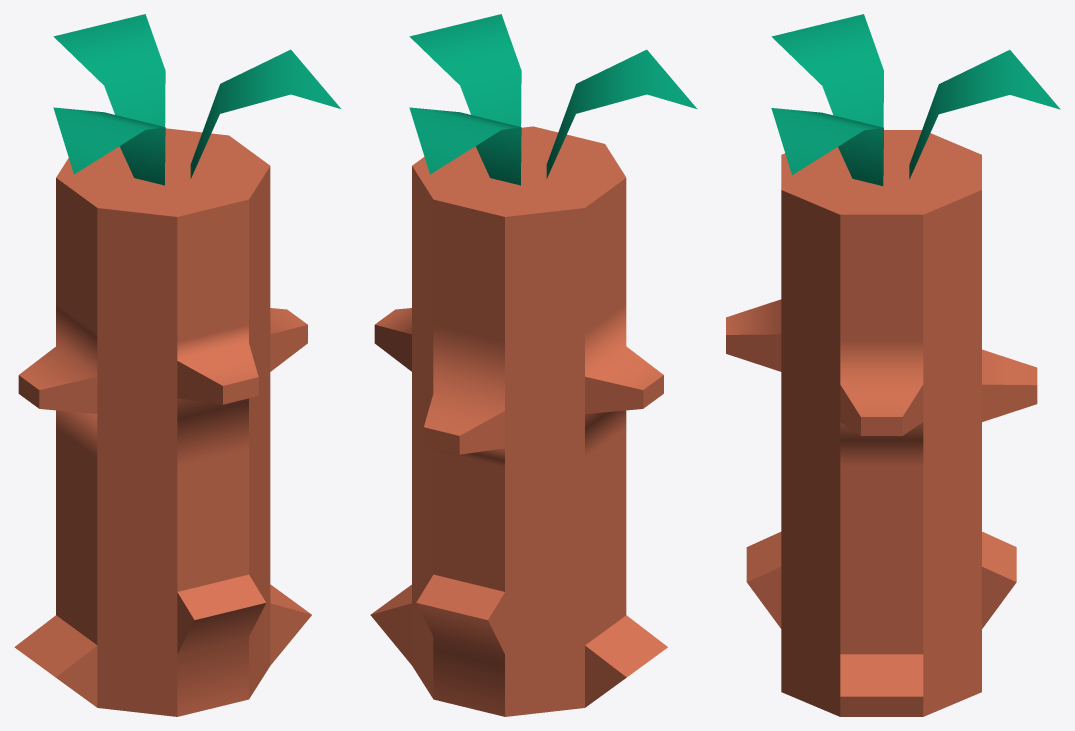
File: Log.fbx
3 views of the same model, side by side, from view 1: azimuth 30°, elevation 25°; view 2: azimuth 150°, elevation 25°; view 3: azimuth 270°, elevation 25° (orthographic).
Visible parts, largest first — view 1: mergedBlocks; view 2: mergedBlocks; view 3: mergedBlocks.
Boxes of the visible parts, <box> form: mergedBlocks: <box>14,14,341,716</box>; mergedBlocks: <box>370,14,697,716</box>; mergedBlocks: <box>726,14,1060,716</box>.
Bounding box in the file's own units: 5.62 × 11.99 × 6.05.
